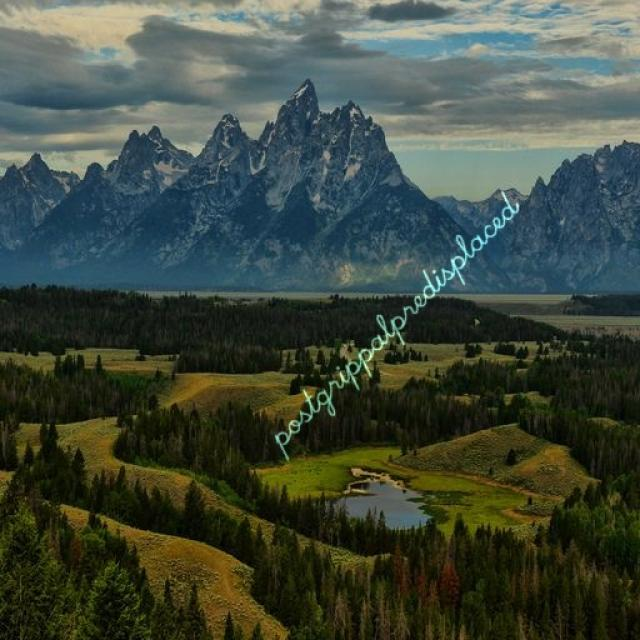watermark: (272, 178, 521, 453)
